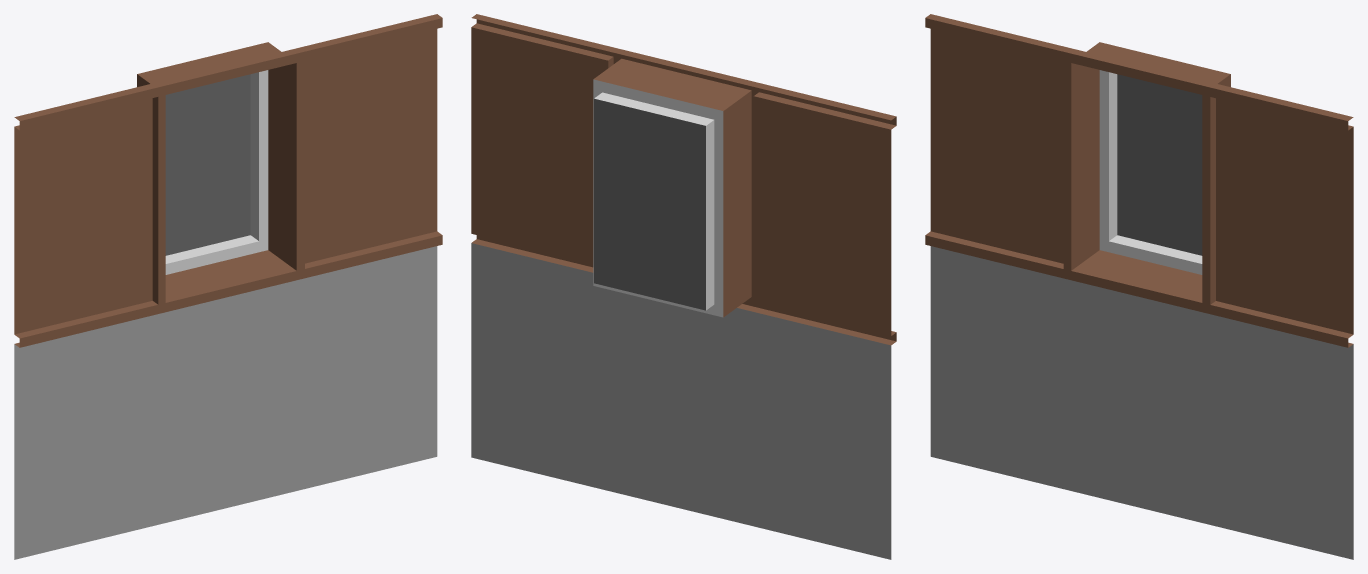
Rendered from S3_Window.fbx.
3 renders of one model, left to right at view 1: azimuth 30°, elevation 25°; view 2: azimuth 150°, elevation 25°; view 3: azimuth 330°, elevation 25°, orthographic.
Visible parts, largest first — view 1: S3_Window; view 2: S3_Window; view 3: S3_Window.
Boxes of the visible parts, x1,y1,x2,y2 form: S3_Window: [14, 14, 442, 559]; S3_Window: [471, 14, 896, 559]; S3_Window: [925, 14, 1353, 559].
Size of the model in its own units: 30 by 30 by 4.54.
